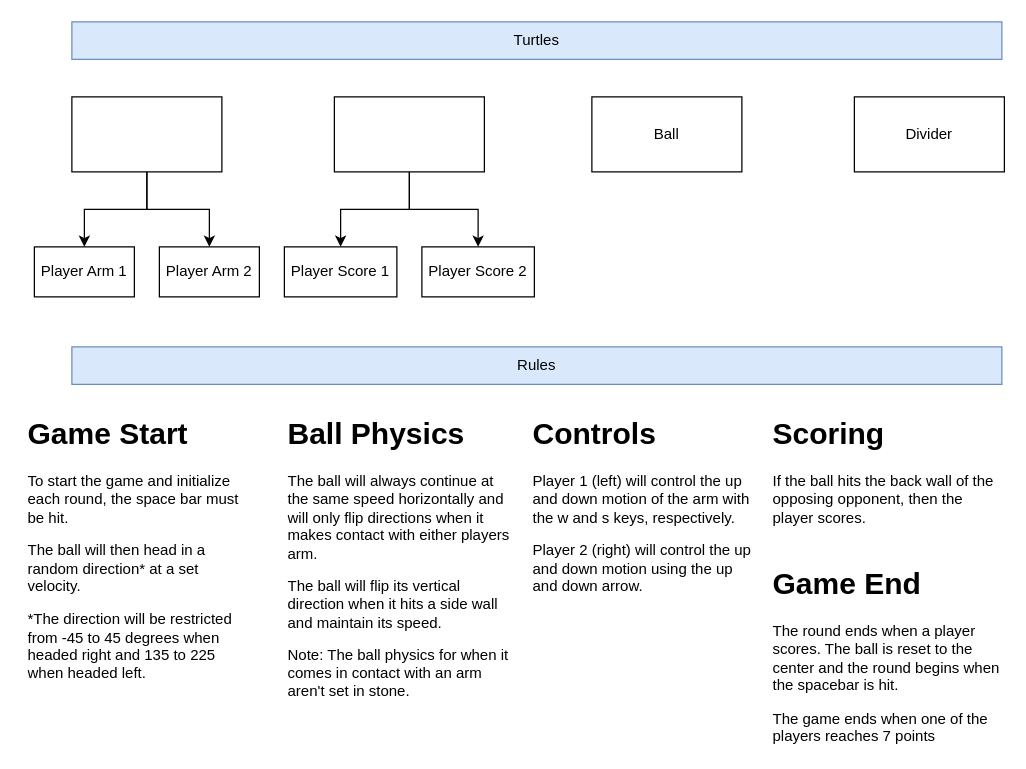
The diagram is 1026 pixels wide and 769 high, and some of its shapes have lost their labels. The shapes that lost their labels are listed below. From the top down, each one's centre as x and y in pixels, then its label:
At (x=146, y=134): "Player Arm".
At (x=408, y=134): "Score".
